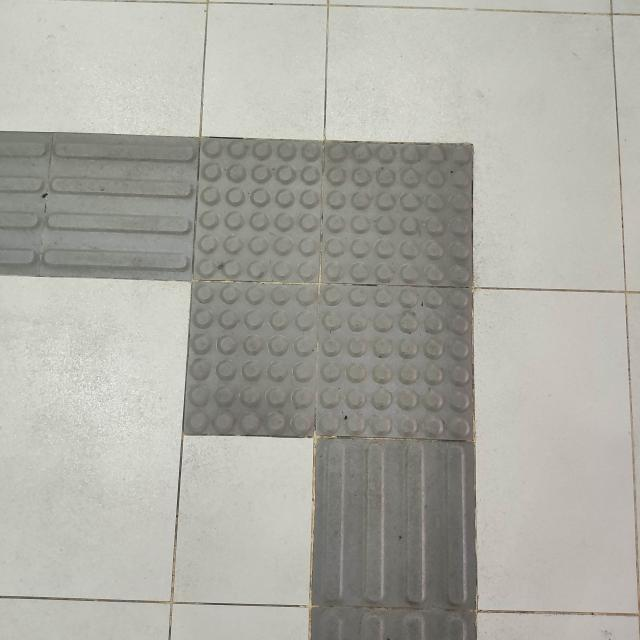kiri: (14, 109, 544, 543)
